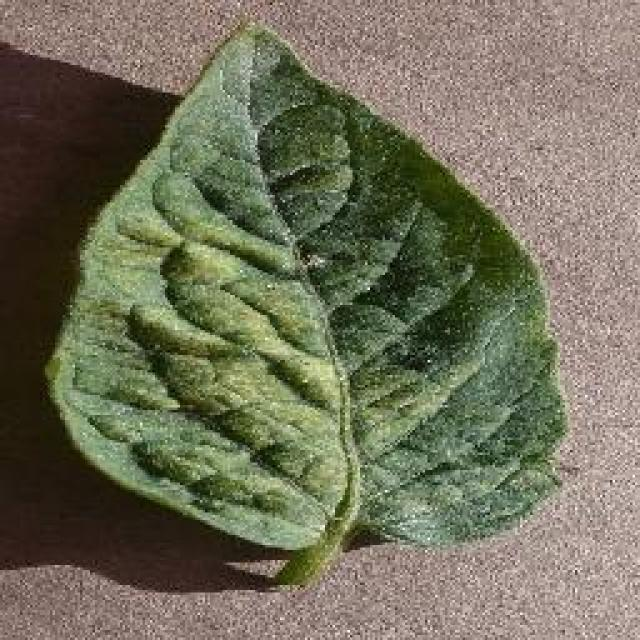Tomato mosaic virus leaf: (44, 31, 571, 554)
